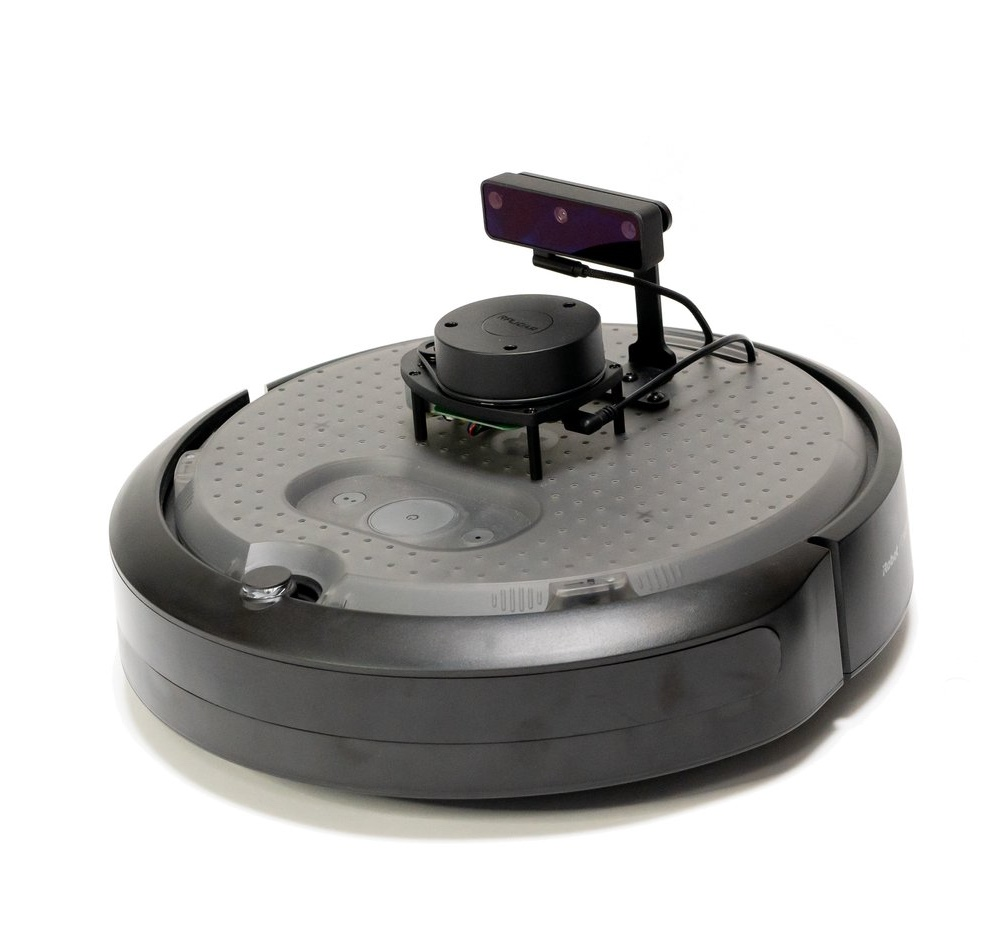turtlebot: (51, 145, 958, 824)
